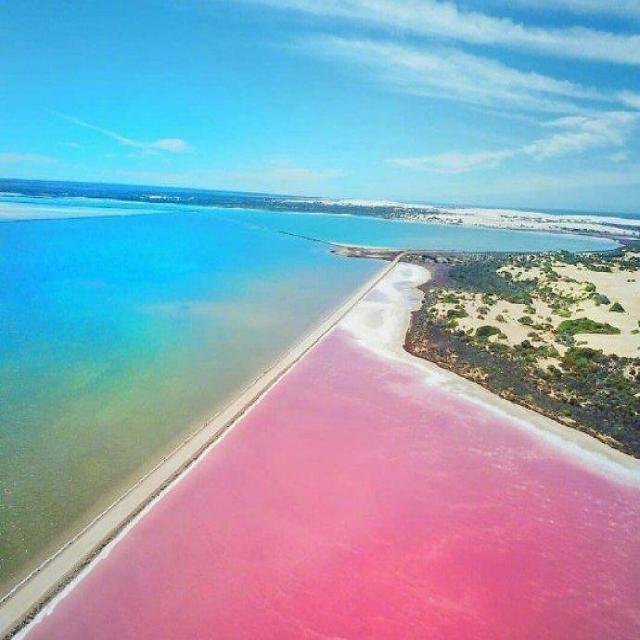other: (347, 248, 425, 376), (552, 259, 638, 351)
